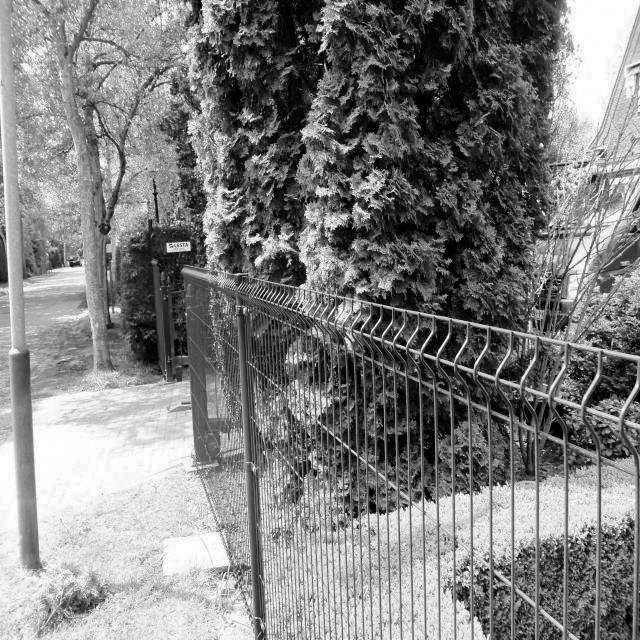fences: (171, 261, 640, 640)
